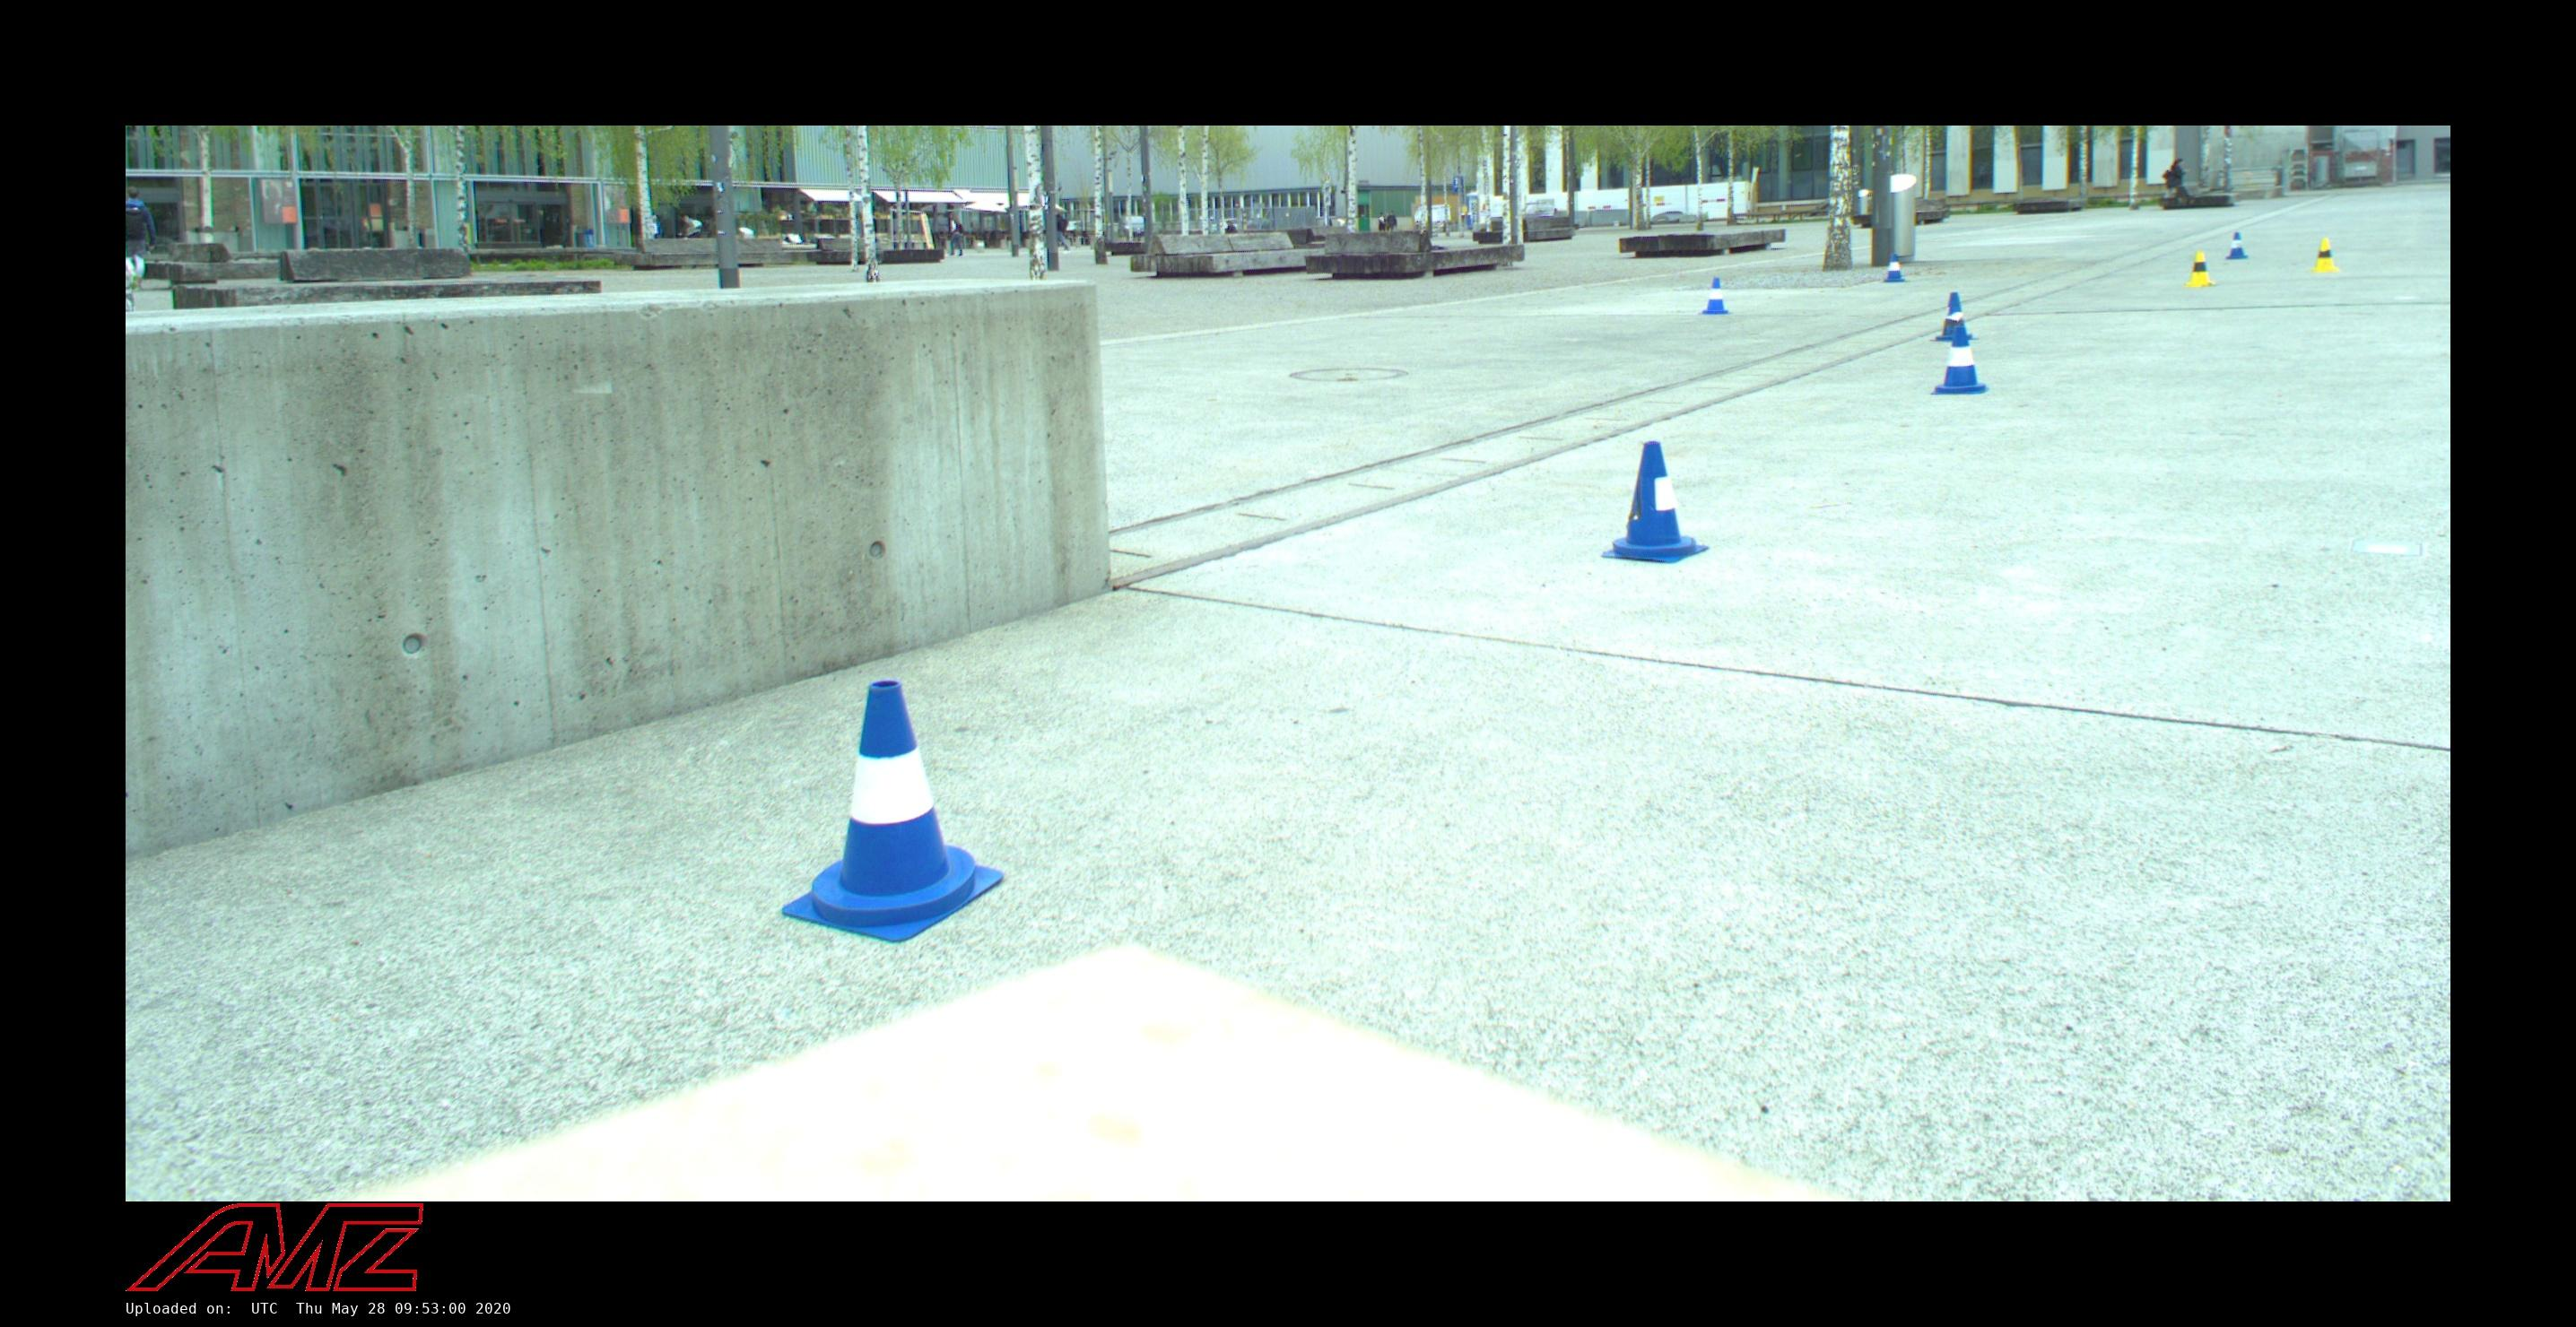blue_cone: (779, 677, 1005, 941), (1598, 440, 1711, 565), (1928, 327, 1990, 394), (1929, 291, 1979, 340), (1699, 278, 1730, 315), (1882, 252, 1906, 283), (2224, 232, 2249, 259)
yellow_cone: (2183, 251, 2215, 288), (2309, 237, 2341, 273)
